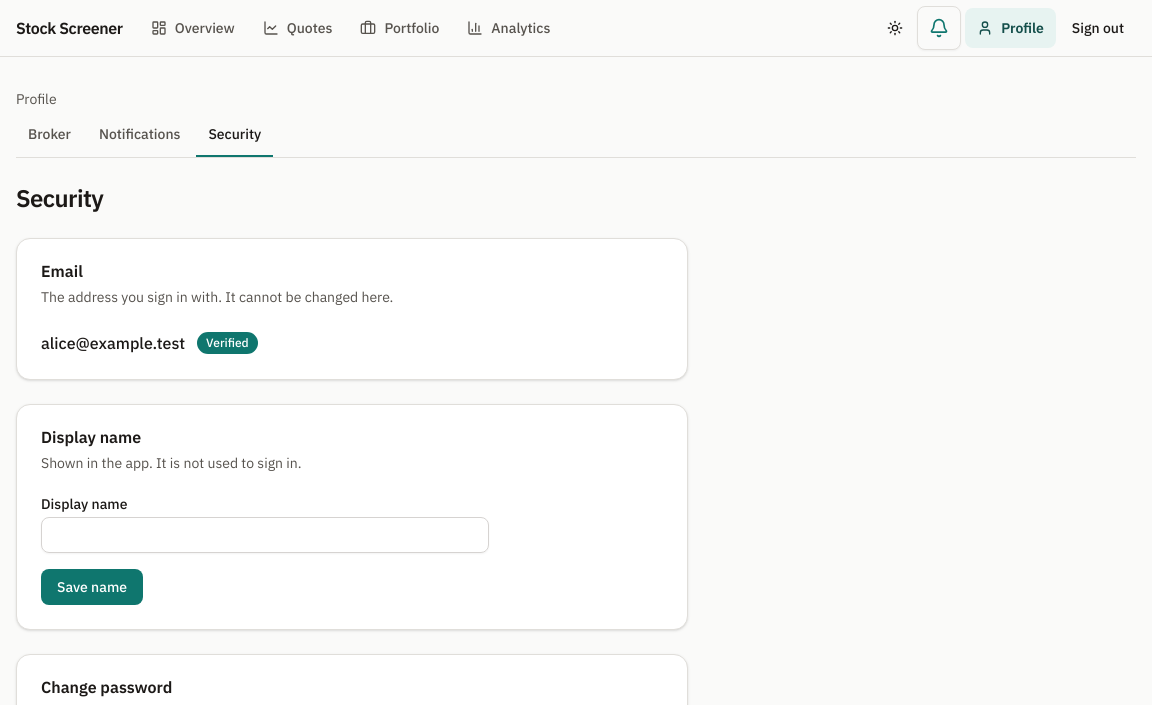
Test case: profile layout › navigates between sections
Click the link "Broker". click: (49, 134)
box: [28,125,71,143]
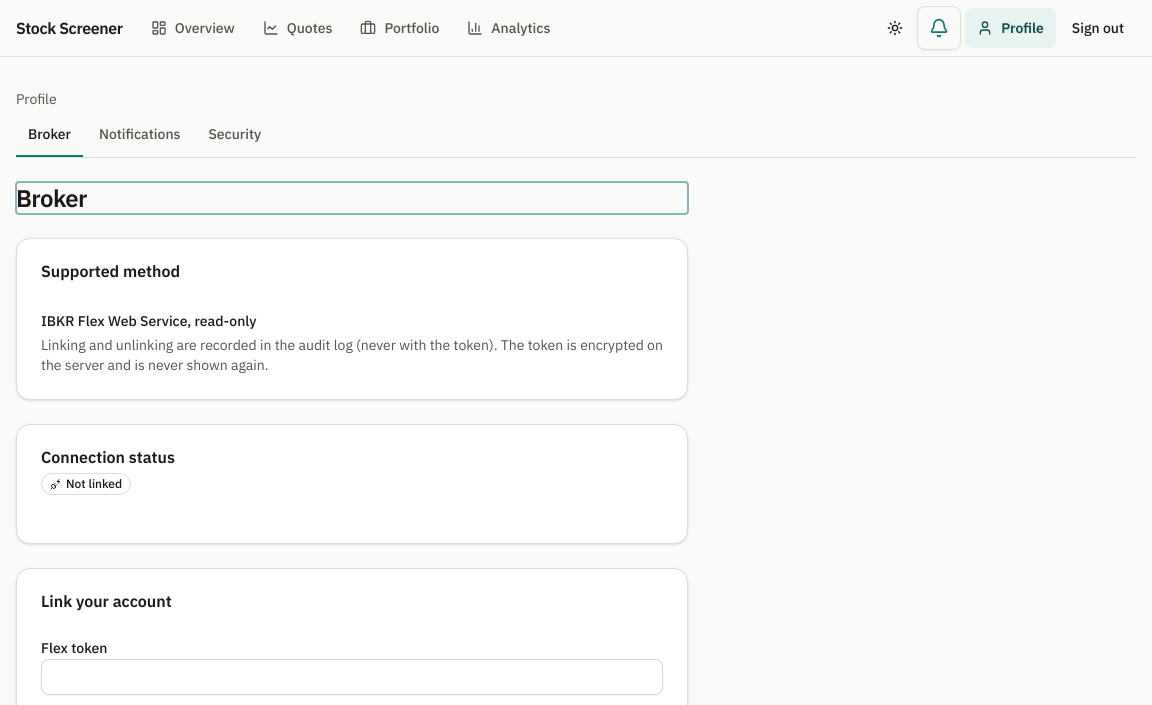
Check: the heading "Broker" is shown, box [16,182,87,214]
